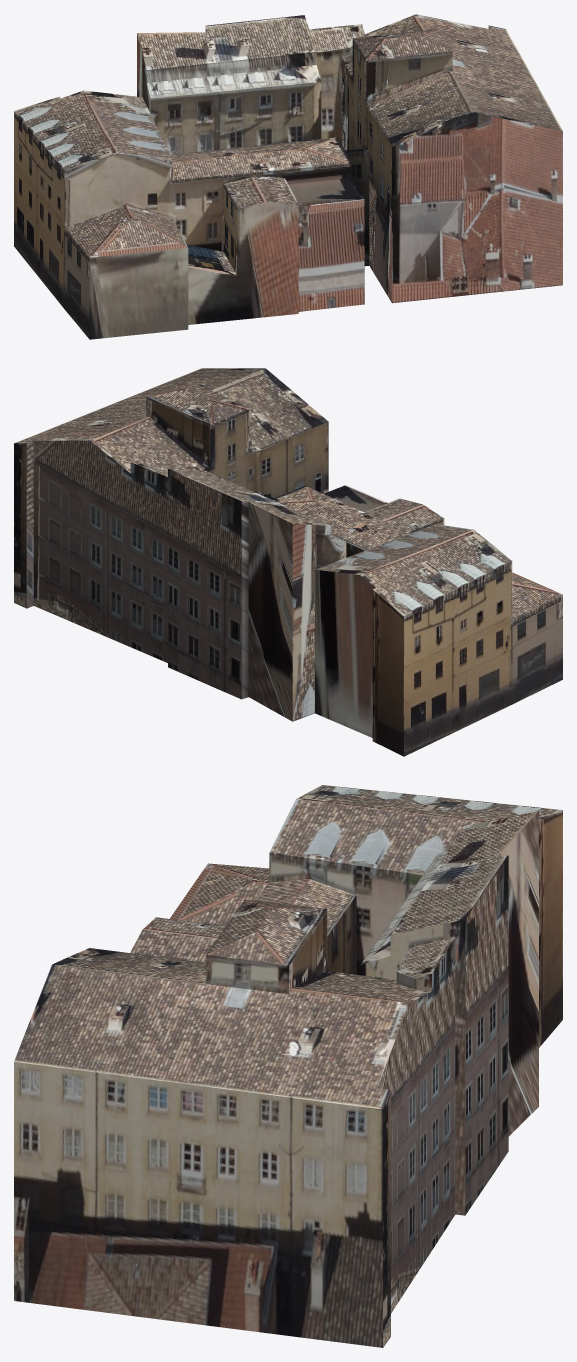
3 renders of one model, top to bottom at view 1: azimuth 30°, elevation 25°; view 2: azimuth 150°, elevation 25°; view 3: azimuth 270°, elevation 25°, orthographic. The views are drawn at different scales.
Visible parts, largest first — view 1: Z_UP; view 2: Z_UP; view 3: Z_UP.
Boxes of the visible parts, x1,y1,x2,y2 form: Z_UP: [14, 14, 562, 339]; Z_UP: [14, 368, 562, 756]; Z_UP: [14, 785, 562, 1347].
Bounding box in the file's own units: 48.85 × 20.54 × 31.7.
Materials: 2 (1 with a texture image).
